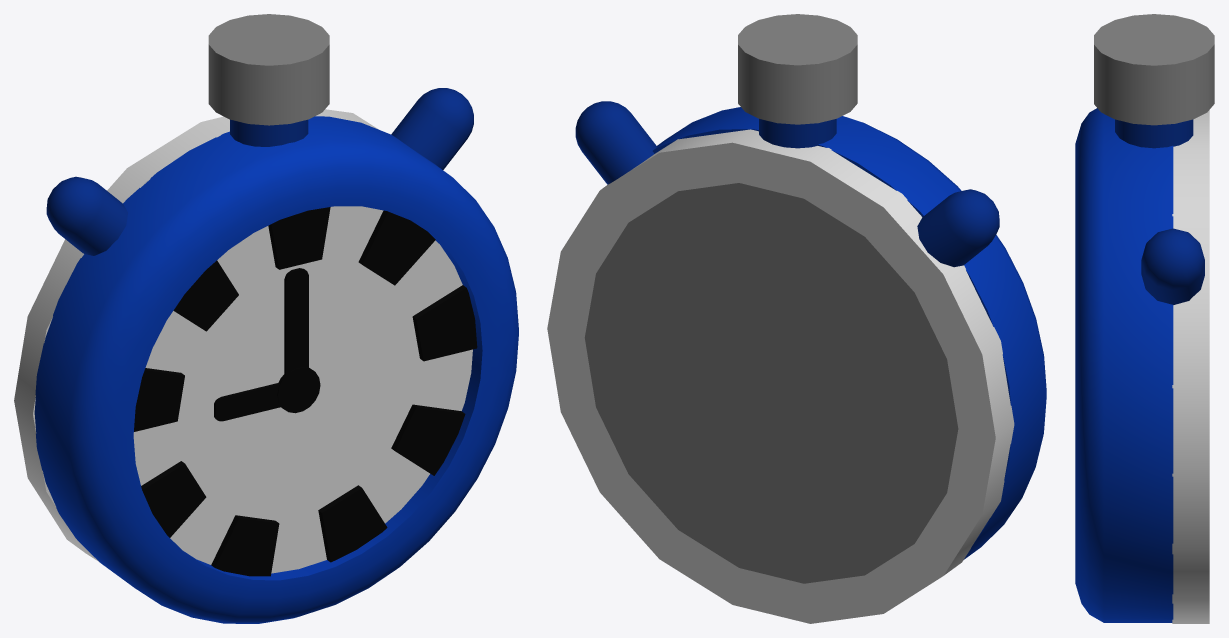
File: Timer.FBX
3 renders of one model, left to right at view 1: azimuth 30°, elevation 25°; view 2: azimuth 150°, elevation 25°; view 3: azimuth 270°, elevation 25°, orthographic.
Visible parts, largest first — view 1: Timer; view 2: Timer; view 3: Timer.
Boxes of the visible parts, box(x1,y1,x2,y2) form: Timer: box(14, 14, 518, 623); Timer: box(547, 14, 1046, 623); Timer: box(1075, 14, 1214, 623).
Bounding box in the file's own units: 34.88 × 41.29 × 9.3.
